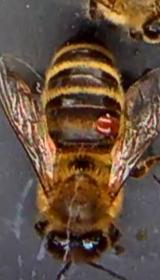varroa_mite: (86, 105, 128, 137)
